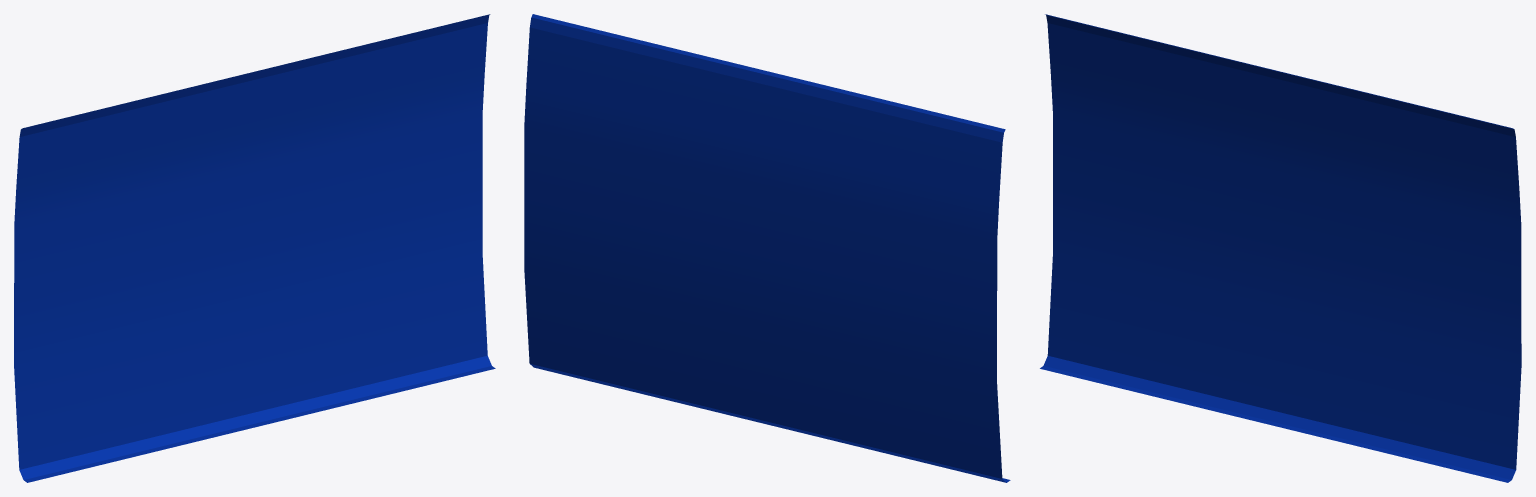
File: asset_murext_4x4_simple.fbx
The picture shows the model from 3 angles, left to right: view 1: azimuth 30°, elevation 25°; view 2: azimuth 150°, elevation 25°; view 3: azimuth 330°, elevation 25°; orthographic projection.
Parts seen in each view (by area): view 1: module_murext4x4_low4; view 2: module_murext4x4_low4; view 3: module_murext4x4_low4.
Boxes of the visible parts, bbox=[...] form: module_murext4x4_low4: bbox=[14, 14, 495, 482]; module_murext4x4_low4: bbox=[524, 14, 1010, 482]; module_murext4x4_low4: bbox=[1040, 14, 1521, 482].
Size of the model in its own units: 4 by 2.86 by 0.1981.
